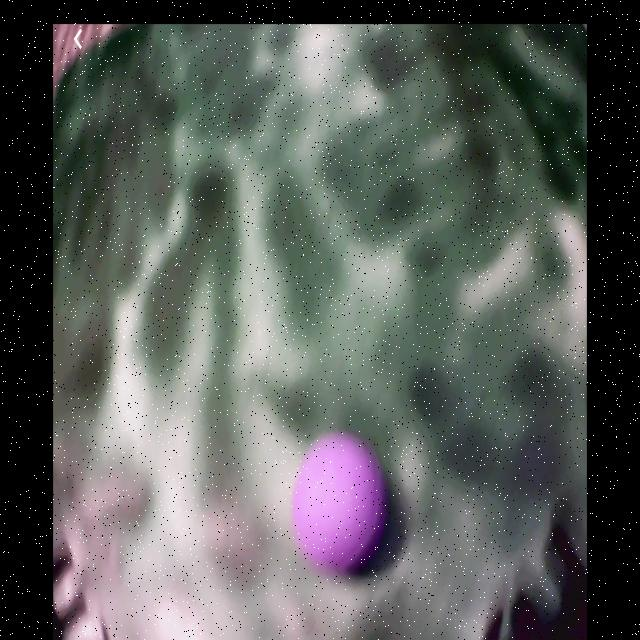ball: (296, 435, 386, 570)
